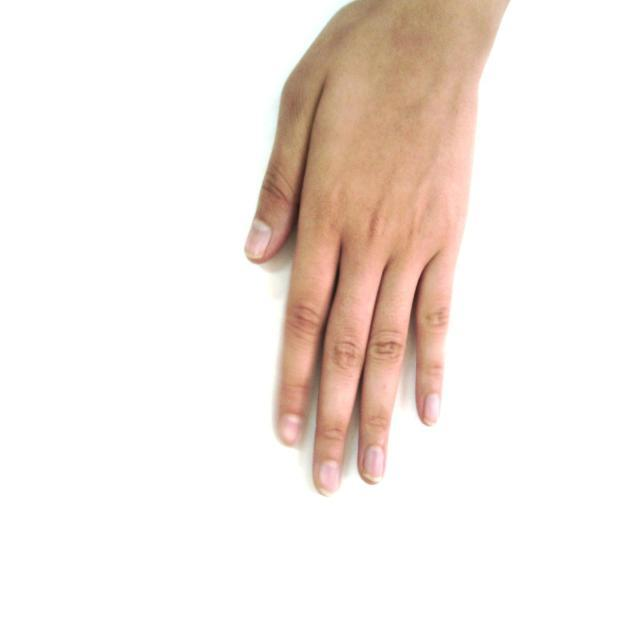Fingernail: (246, 221, 271, 257), (320, 462, 340, 494), (364, 447, 383, 480), (281, 416, 300, 446), (425, 393, 439, 423)
